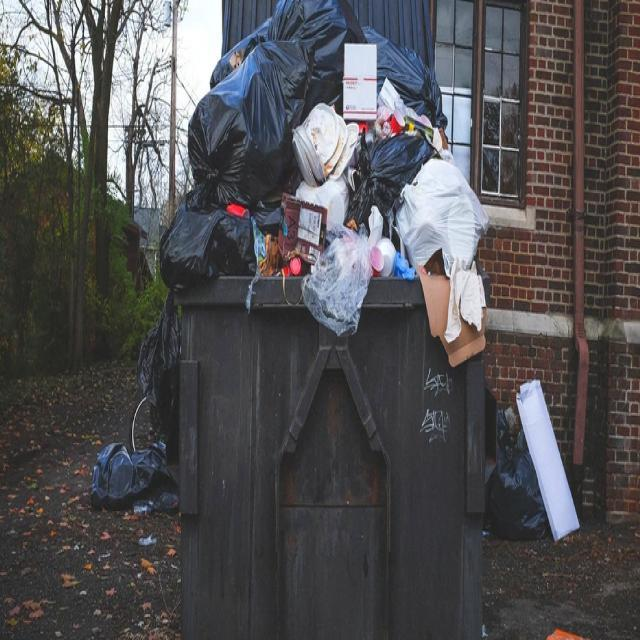Disposable: (292, 104, 359, 186), (378, 238, 396, 276), (390, 109, 405, 134)
Garbage: (160, 0, 489, 340)
Plastic_Bag: (189, 47, 292, 208), (262, 0, 365, 128), (396, 158, 489, 276), (345, 134, 433, 234), (364, 27, 448, 128), (160, 206, 256, 290), (302, 225, 371, 336)
